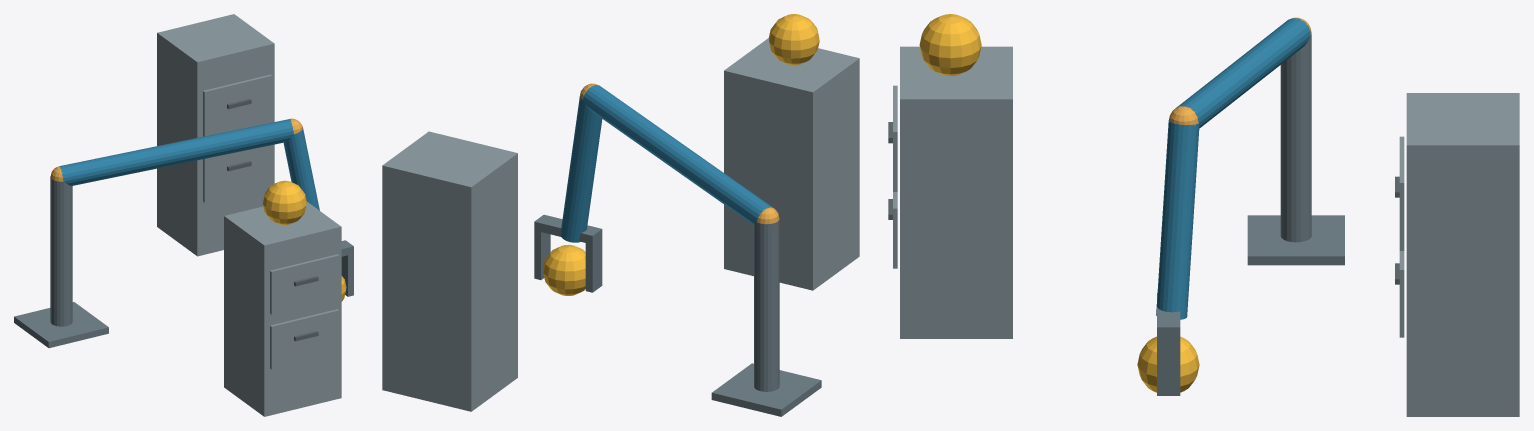
3 views of the same model, side by side, from view 1: azimuth 30°, elevation 25°; view 2: azimuth 150°, elevation 25°; view 3: azimuth 270°, elevation 25° (orthographic). The views are drawn at different scales.
Visible parts, largest first — view 1: cabinet_1 body, cabinet_2 body, moving link 1, fixed post, cabinet_2 drawer front.001, cabinet_1 drawer front, cabinet_1 drawer front.001, cabinet_2 drawer front, pedestal, released ball_1, moving link 2, gripper finger 1; view 2: cabinet_2 body, cabinet_1 body, moving link 1, fixed post, moving link 2, pedestal, released ball_1, ball ball_2, gripper finger -1, gripper bridge, gripper finger 1; view 3: cabinet_2 body, cabinet_1 body, fixed post, moving link 2, moving link 1, pedestal, released ball_1, ball ball_2, gripper finger 1, cabinet_2 drawer front.001, gripper bridge.
Boxes of the visible parts, <box> form: cabinet_1 body: <box>224,201,341,416</box>; cabinet_2 body: <box>157,14,274,256</box>; moving link 1: <box>59,119,293,185</box>; fixed post: <box>50,176,72,326</box>; cabinet_2 drawer front.001: <box>203,74,272,136</box>; cabinet_1 drawer front: <box>270,309,339,369</box>; cabinet_1 drawer front.001: <box>270,254,339,314</box>; cabinet_2 drawer front: <box>203,145,272,202</box>; pedestal: <box>14,302,108,348</box>; released ball_1: <box>263,180,306,224</box>; moving link 2: <box>283,127,319,210</box>; gripper finger 1: <box>341,254,353,296</box>; cabinet_2 body: <box>382,131,517,411</box>; cabinet_1 body: <box>724,38,859,290</box>; moving link 1: <box>583,85,772,224</box>; fixed post: <box>754,218,779,391</box>; moving link 2: <box>560,94,602,242</box>; pedestal: <box>711,363,821,416</box>; released ball_1: <box>768,14,819,65</box>; ball ball_2: <box>542,244,585,295</box>; gripper finger -1: <box>585,238,602,292</box>; gripper bridge: <box>534,214,602,244</box>; gripper finger 1: <box>534,230,550,279</box>; cabinet_2 body: <box>1406,93,1519,416</box>; cabinet_1 body: <box>900,46,1012,338</box>; fixed post: <box>1280,34,1311,242</box>; moving link 2: <box>1156,120,1199,319</box>; moving link 1: <box>1175,18,1310,128</box>; pedestal: <box>1247,215,1344,265</box>; released ball_1: <box>919,14,981,76</box>; ball ball_2: <box>1137,336,1199,392</box>; gripper finger 1: <box>1157,338,1180,395</box>; cabinet_2 drawer front.001: <box>1399,136,1404,250</box>; gripper bridge: <box>1157,292,1180,337</box>.
Bounding box in the file's own units: 1.17 × 0.839 × 1.62.
